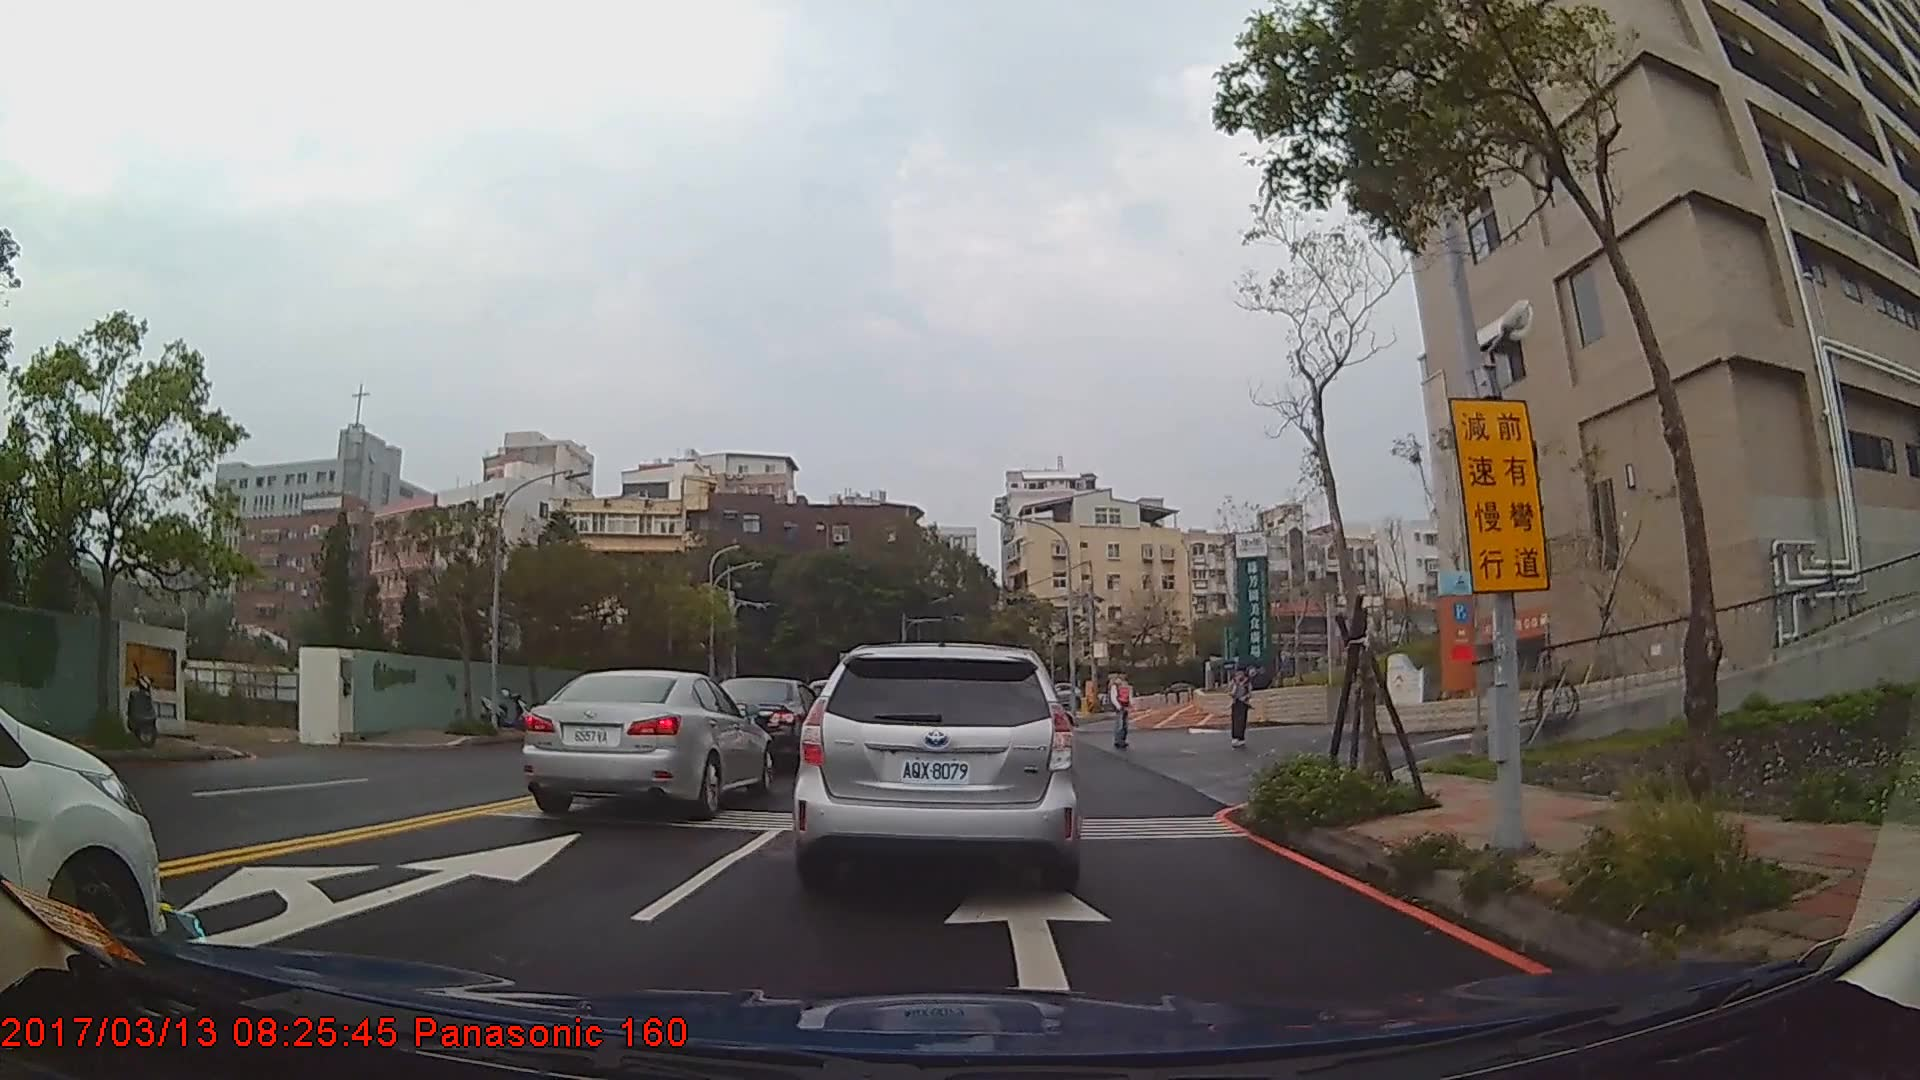pedestrian: (1106, 669, 1136, 748), (1229, 669, 1254, 748)
vehicle: (792, 639, 1081, 889), (0, 703, 165, 953), (518, 667, 773, 816), (706, 674, 828, 770)
